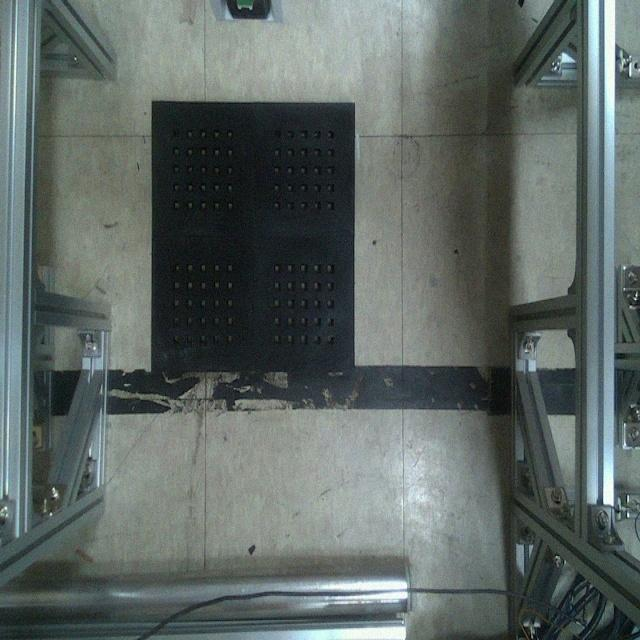pallet: (146, 96, 358, 379)
